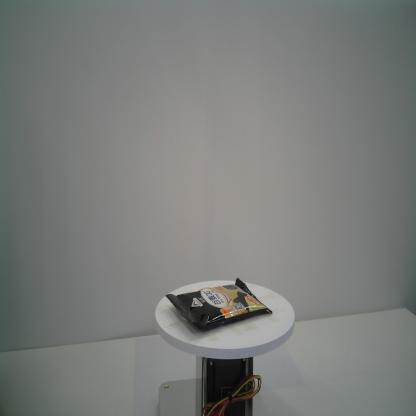Instant Drink: (165, 277, 273, 330)
